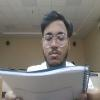notebook: (0, 65, 90, 99)
